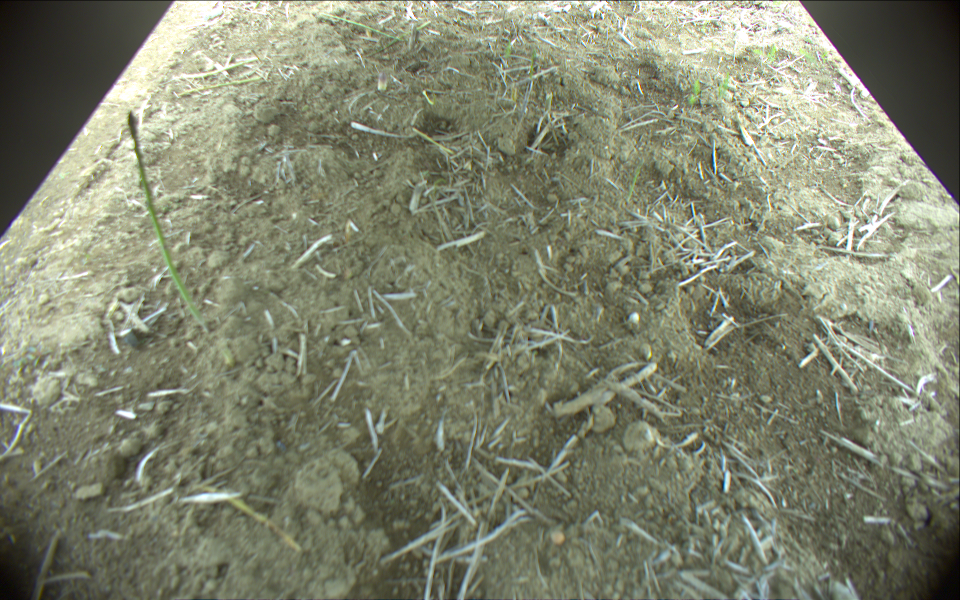aspa: (126, 110, 205, 330), (378, 72, 388, 93)
